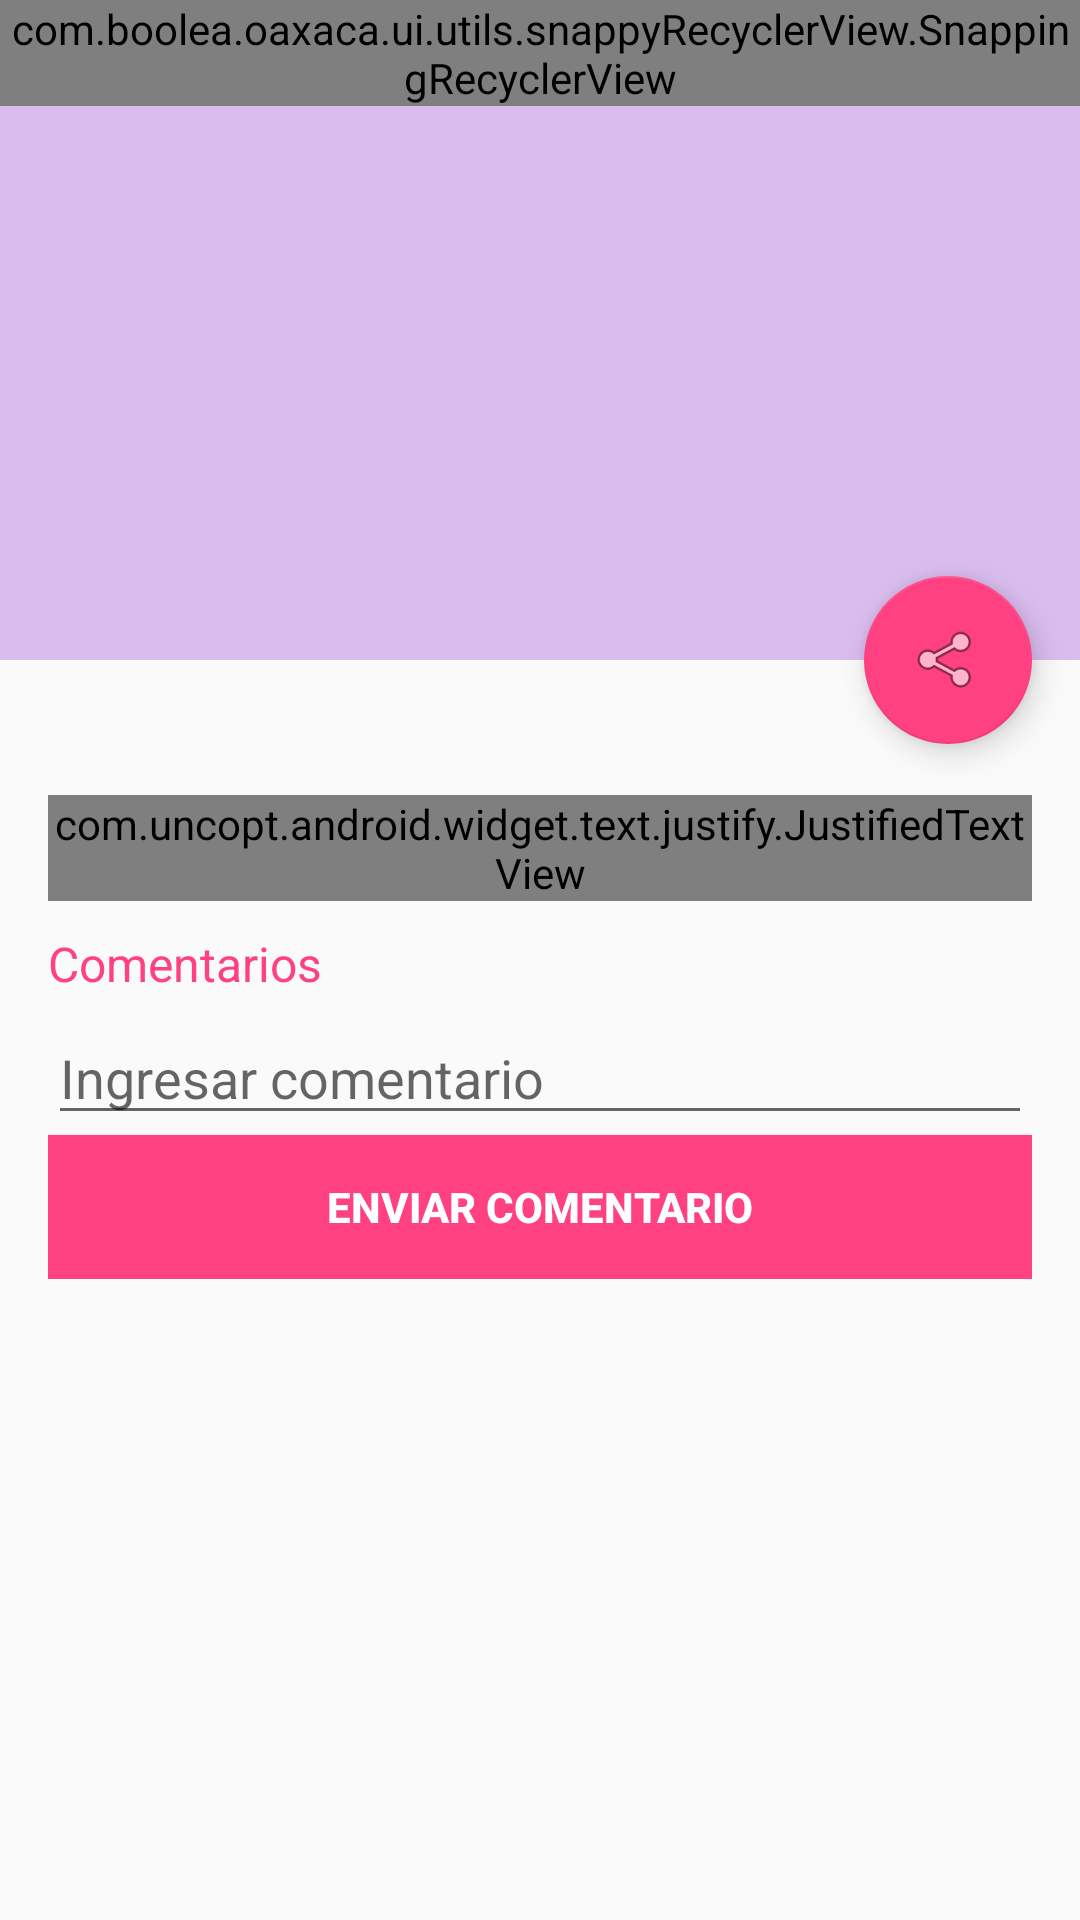

Point at icon controls on the screen. Image size 1080px×1920px, points as point (x, y).
share: point (948, 660)
